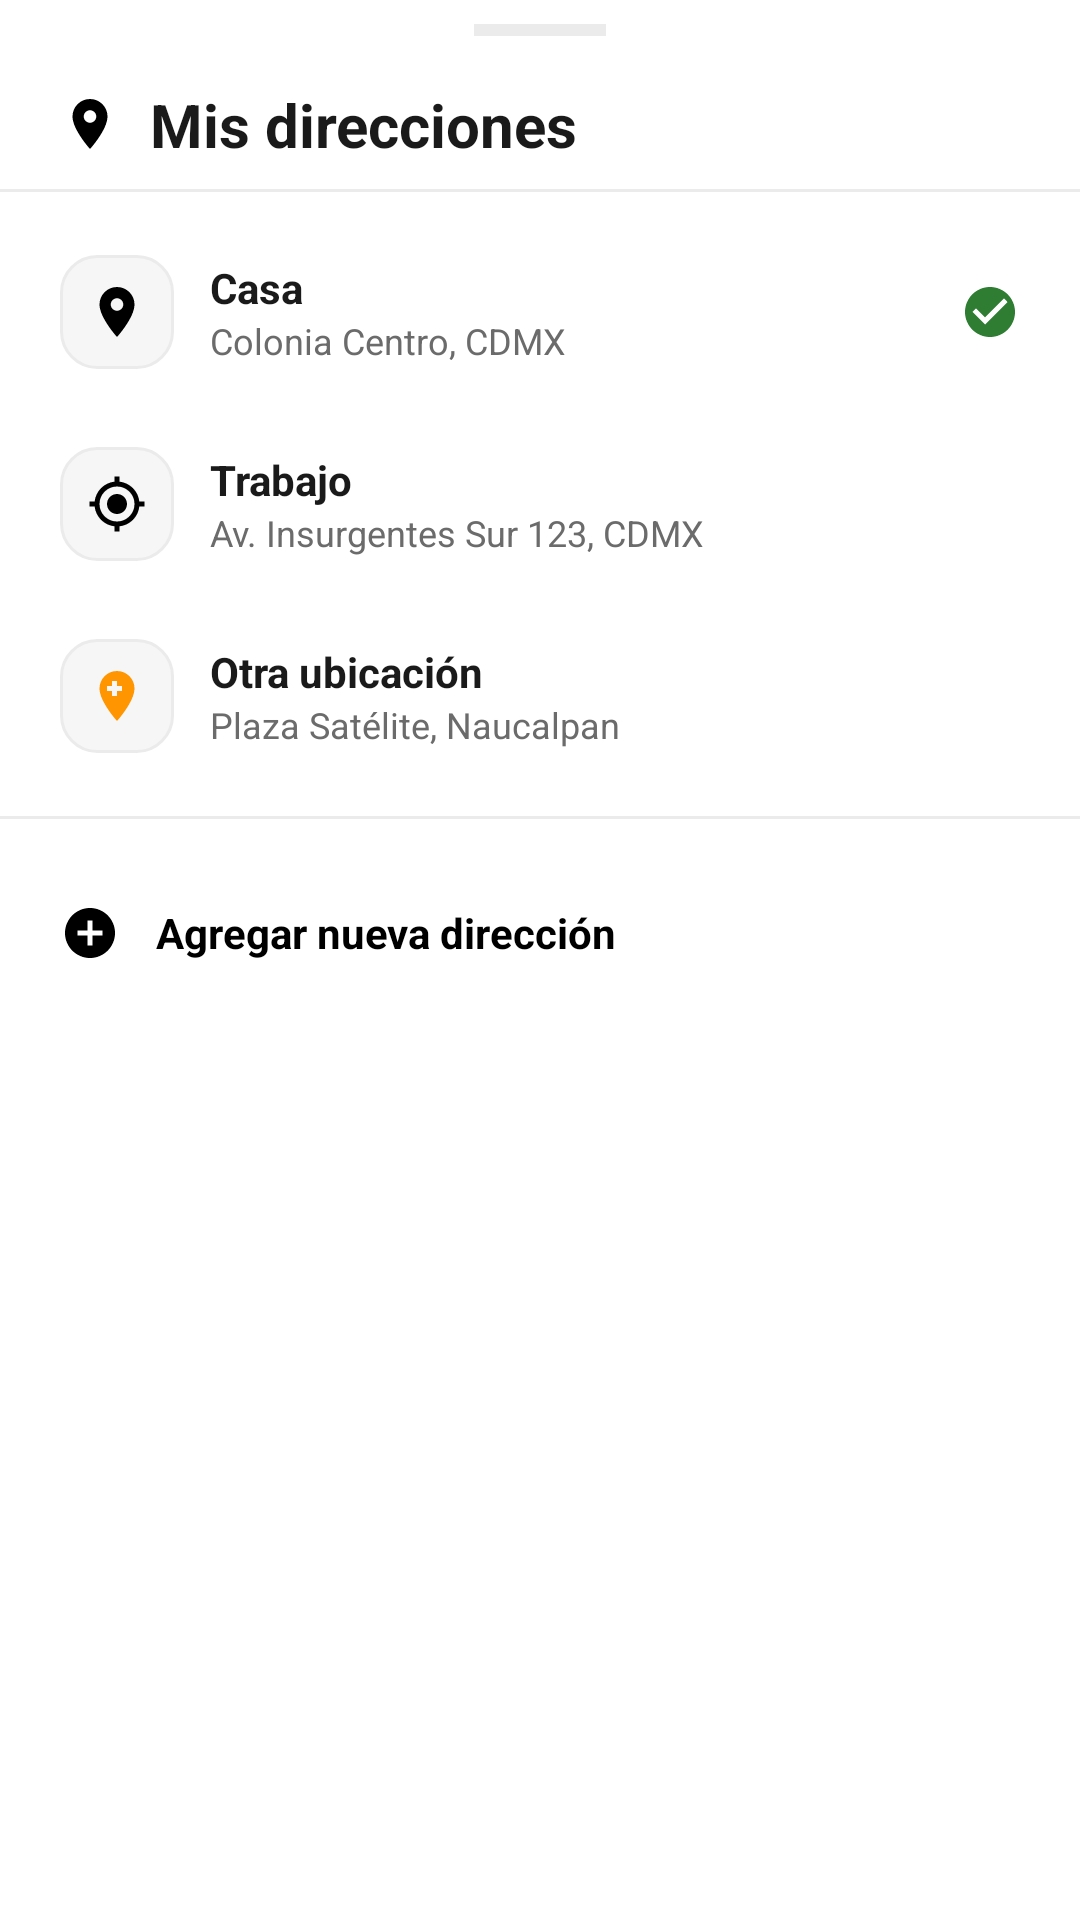

Screen size 1080x1920. Icon name, then its center in pixels as point (x, y):
add circle: point (90, 933)
add location: point (117, 696)
check circle: point (990, 312)
location: point (90, 124), point (117, 312), point (117, 504)
